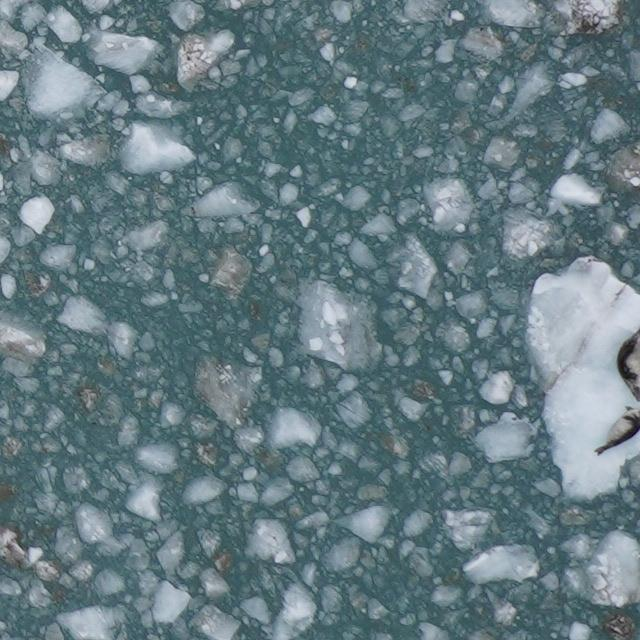seal: (591, 402, 640, 458), (612, 324, 640, 406)
